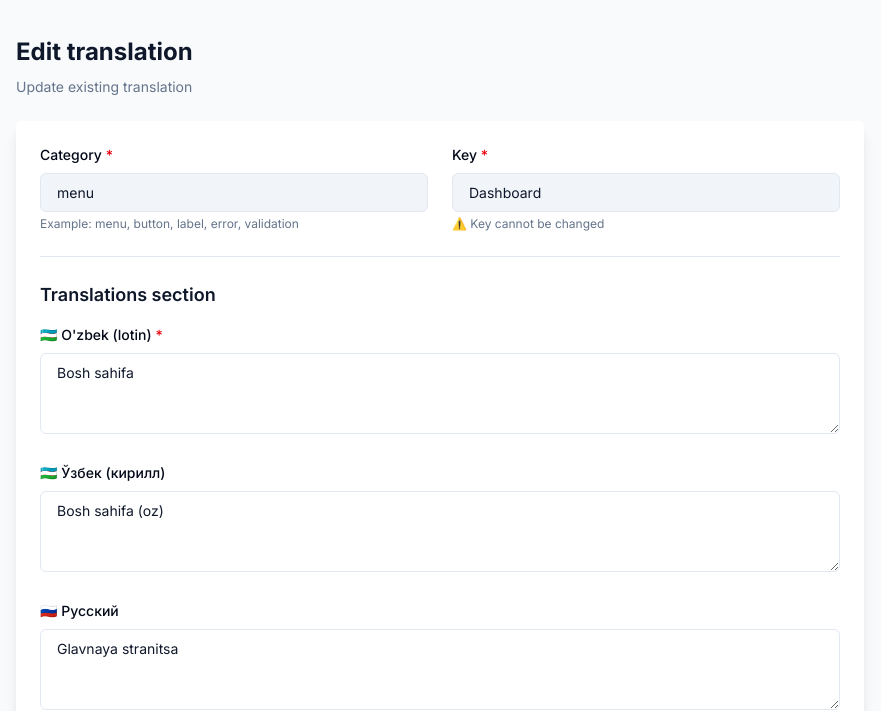
TranslationFormPage › shows validation error when Uzbek text is empty
The width and height of the screenshot is (881, 711).
// Clear the Uzbek field
Clear the text box with placeholder "Primary text (uz-UZ)" at (440, 394), box [40, 353, 840, 434]
(page scrolled)
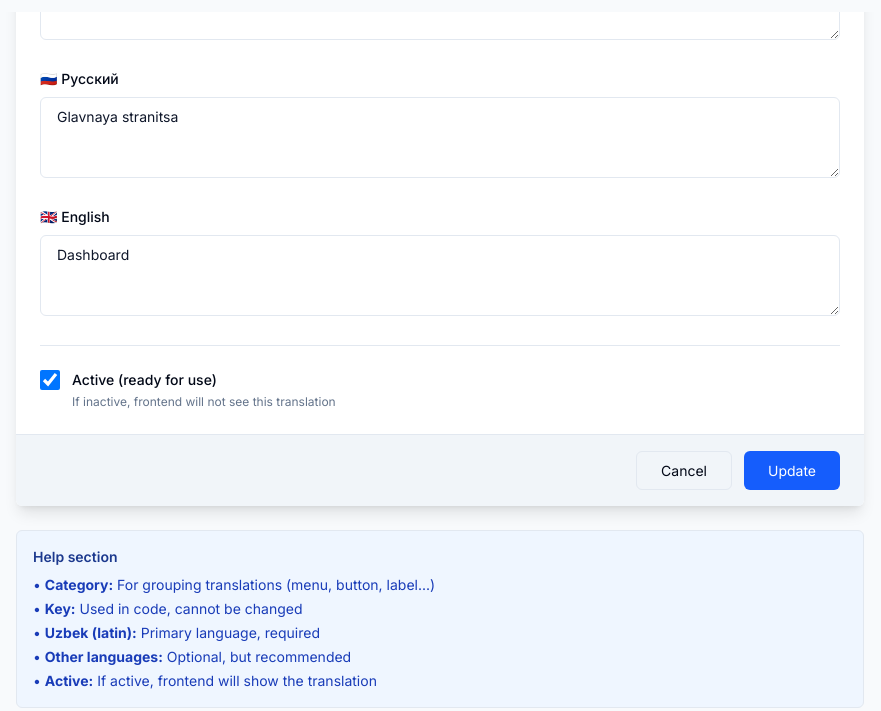
Click the button "Update" at (792, 470), box [744, 451, 840, 490]
(page scrolled)
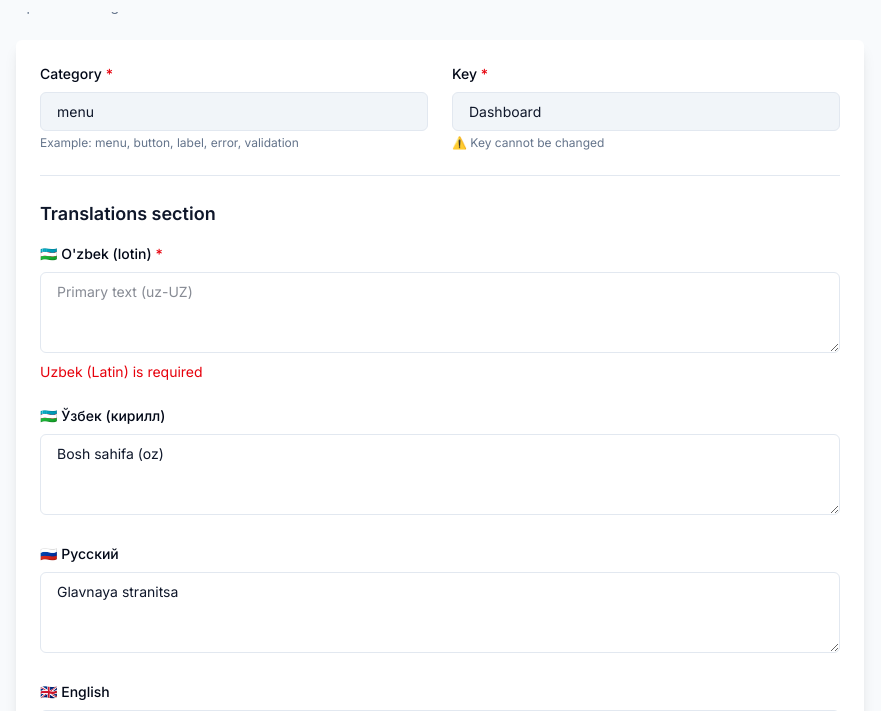
Expected: the text "Uzbek (Latin) is required" is shown, [40, 363, 203, 380]
